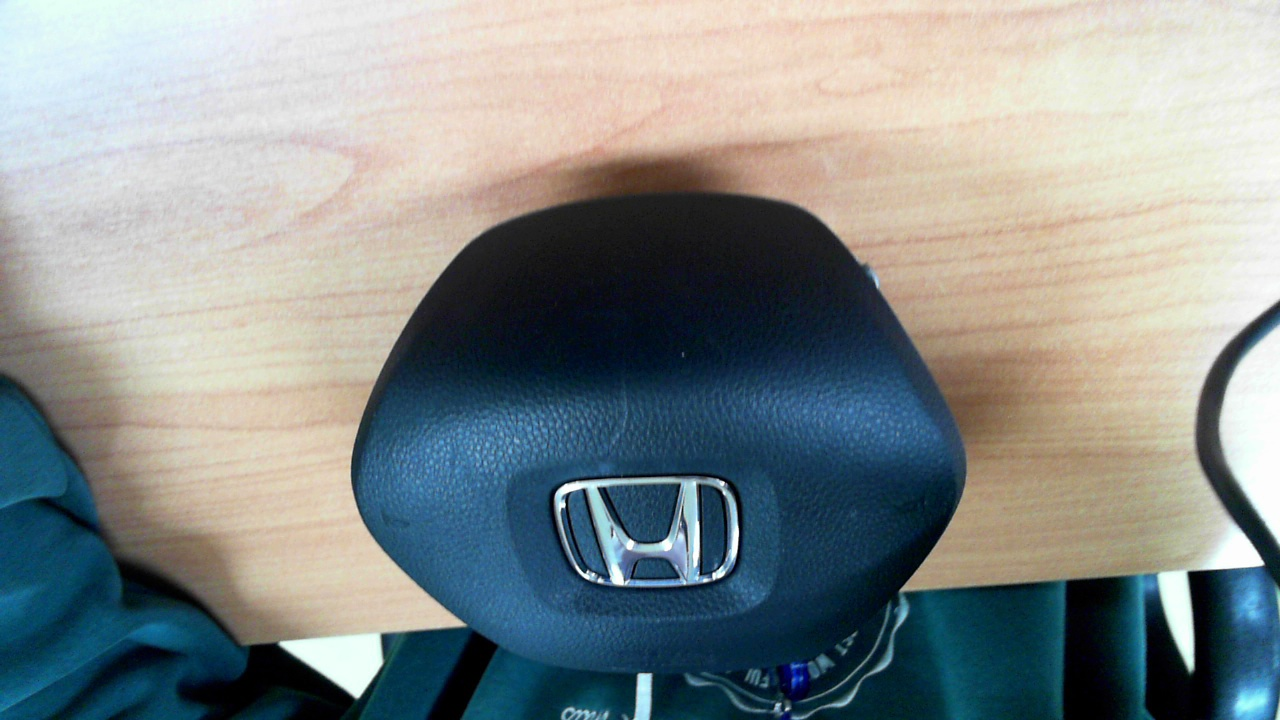Airbag: (349, 189, 968, 672)
Honda: (553, 475, 740, 587)
